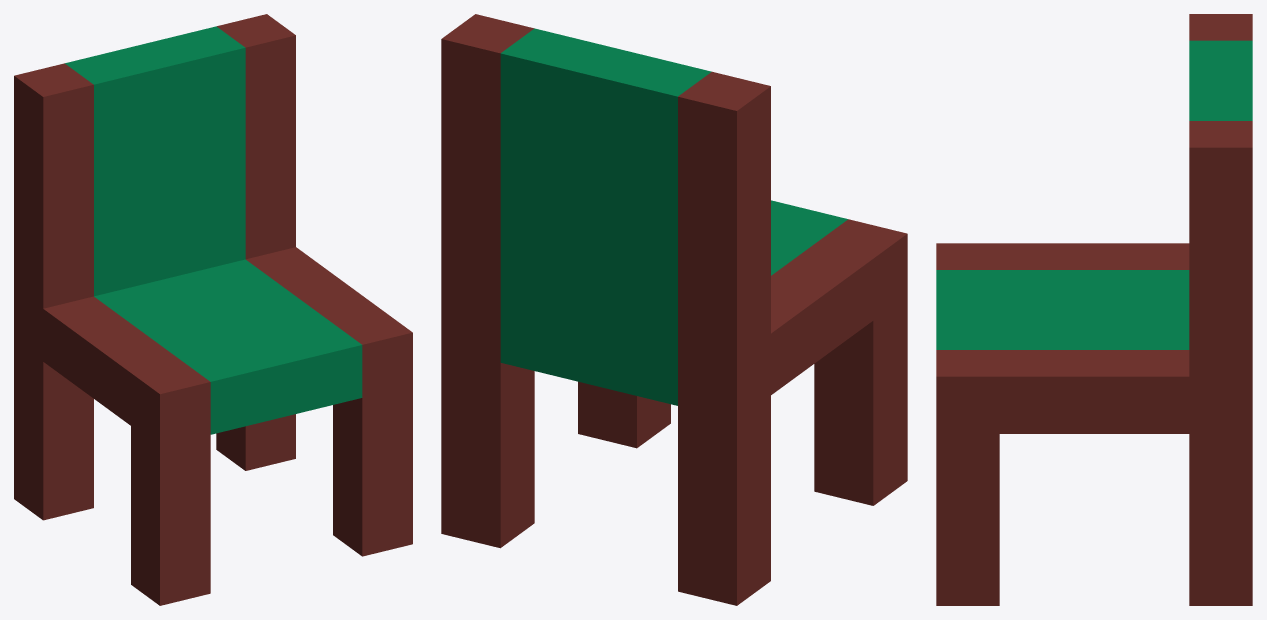
Rendered from chair_b_green.obj.
3 views of the same model, side by side, from view 1: azimuth 30°, elevation 25°; view 2: azimuth 150°, elevation 25°; view 3: azimuth 270°, elevation 25° (orthographic). The views are drawn at different scales.
Bounding box in the file's own units: 0.5 × 0.8 × 0.5.
1 material, 1 textured.
